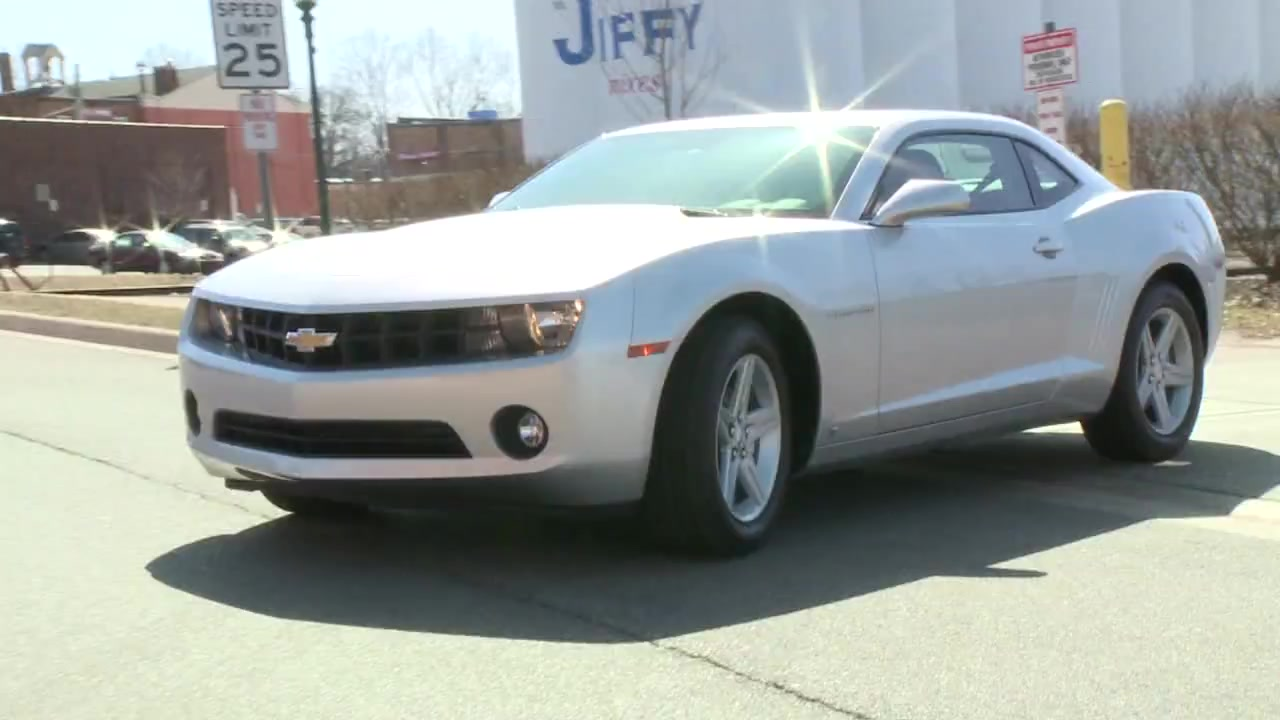car: (175, 108, 1229, 565)
